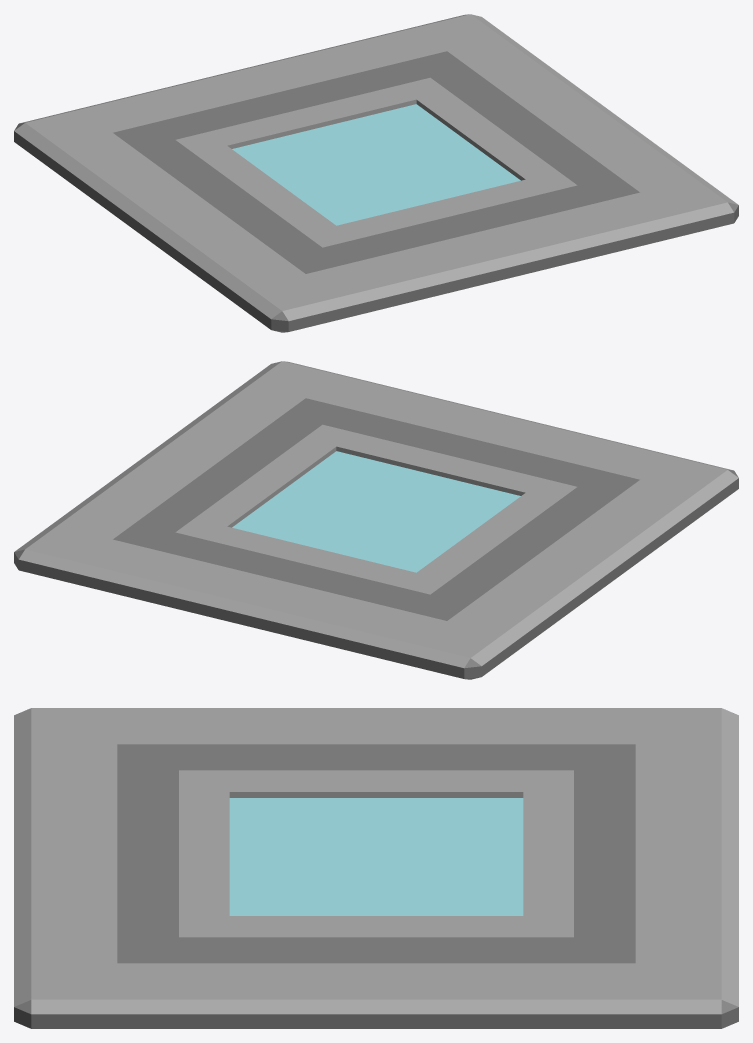
Rendered from Flat asset 2.fbx.
3 views of the same model, one above another, from view 1: azimuth 30°, elevation 25°; view 2: azimuth 150°, elevation 25°; view 3: azimuth 270°, elevation 25° (orthographic). The views are drawn at different scales.
Parts seen in each view (by area): view 1: flast_asset_2; view 2: flast_asset_2; view 3: flast_asset_2.
Part boxes in pixels (box(x1,y1,x2,y2)): flast_asset_2: box(14, 14, 738, 332); flast_asset_2: box(14, 361, 738, 679); flast_asset_2: box(14, 708, 738, 1028).
Size of the model in its own units: 47.17 by 2.09 by 47.17.
